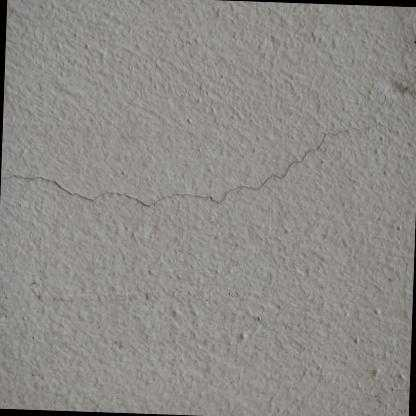crack: (1, 74, 416, 209)
